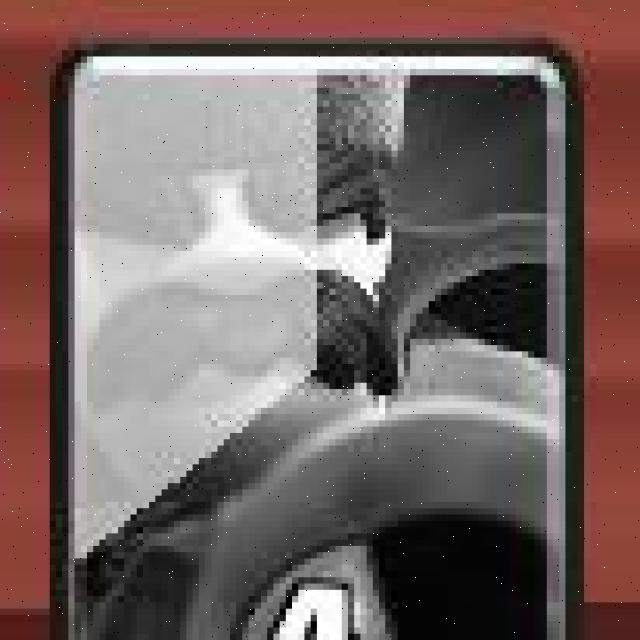Hunter: (46, 39, 590, 640)
